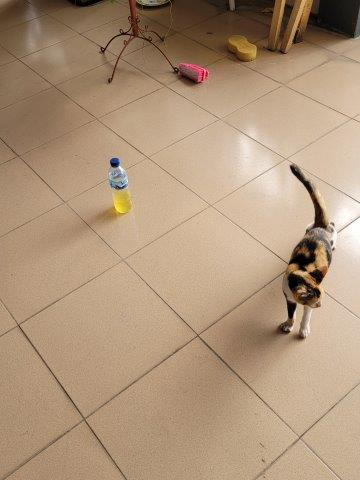botolplastik: (109, 160, 131, 214)
